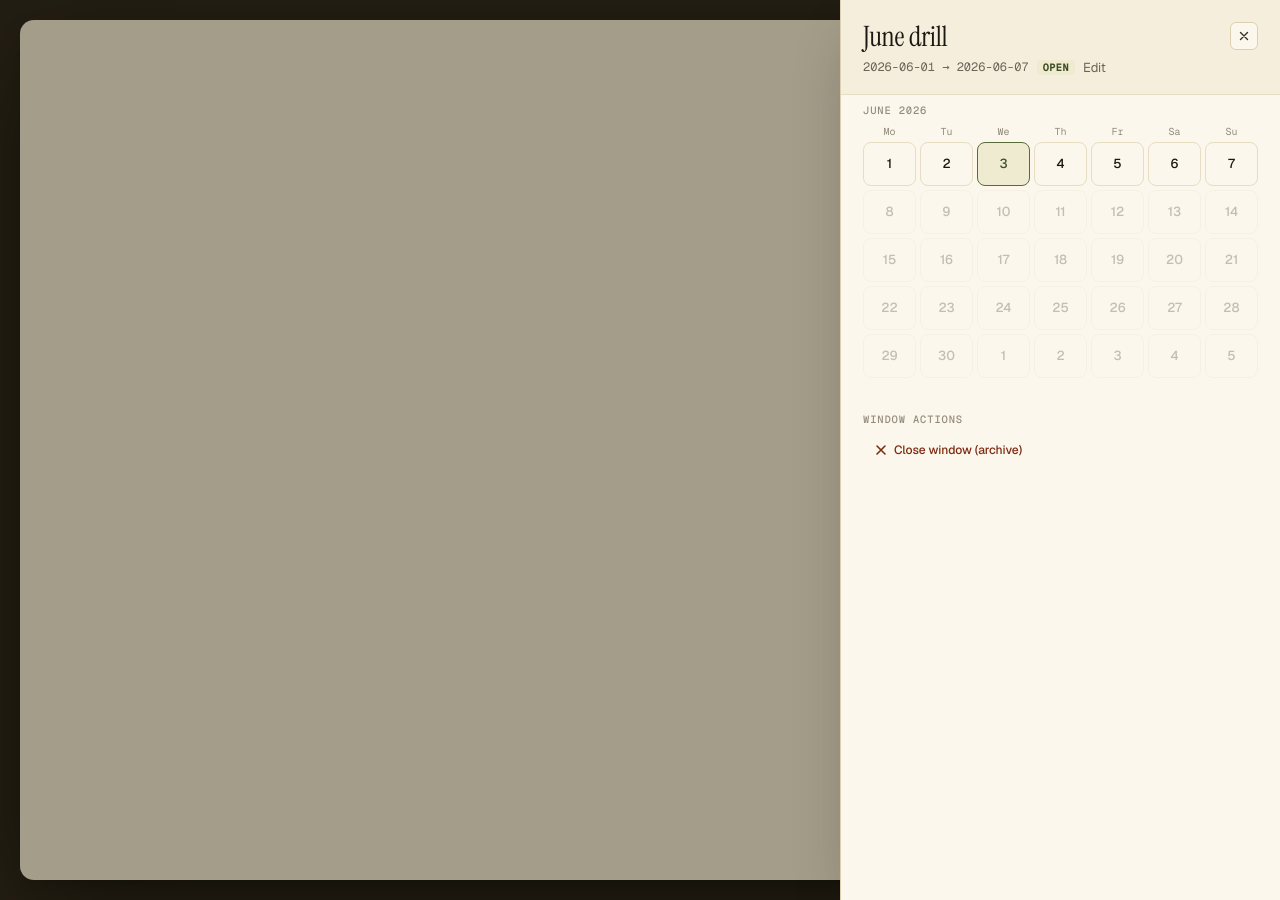
Test: DeploymentWindowDrawer › proposed pick with reservist_note renders the quoted note in the day panel
Click the 1st button "3". click: (1004, 164)
box: [977, 142, 1030, 186]
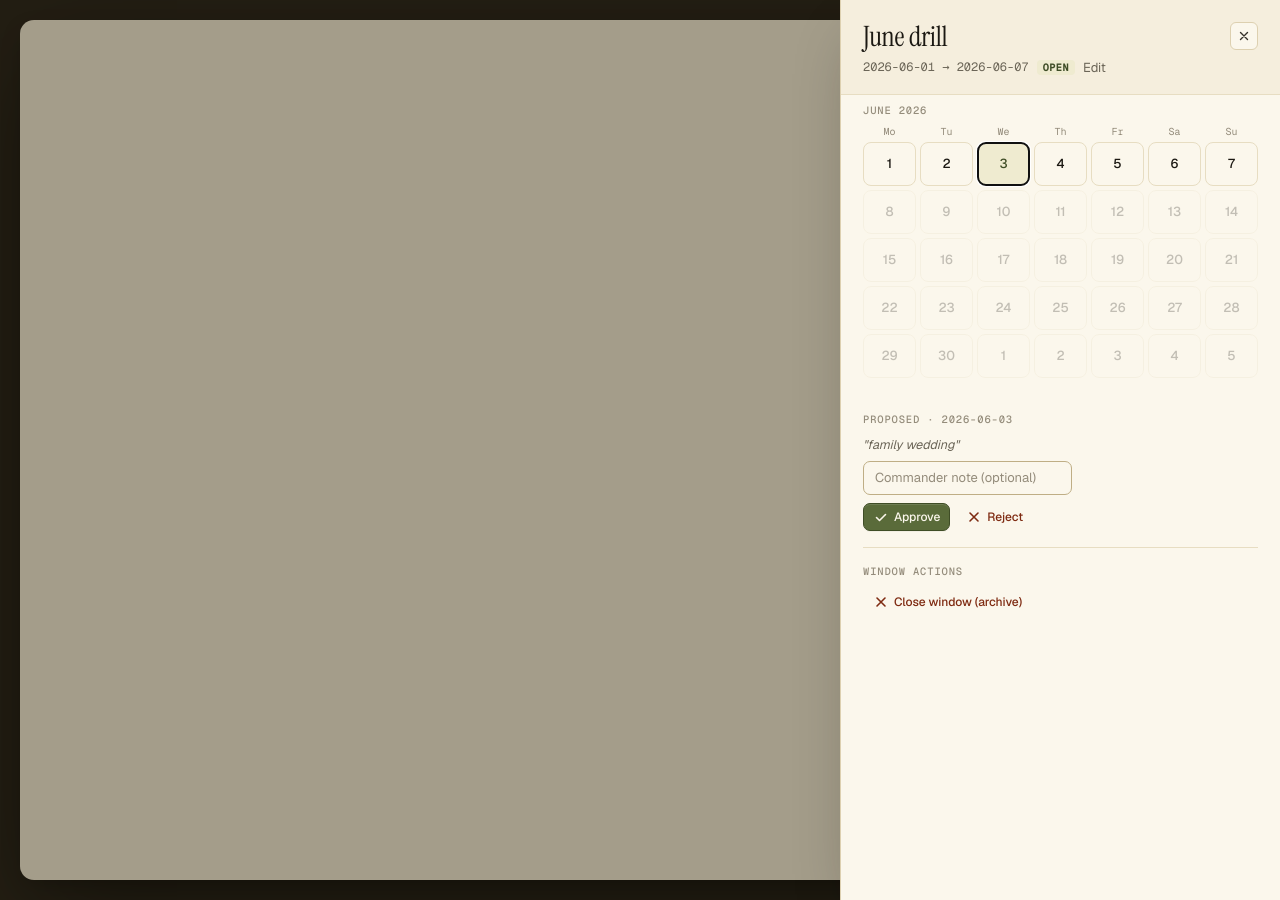
Expected: the text "\"family wedding\"" is shown, [863, 436, 959, 453]
